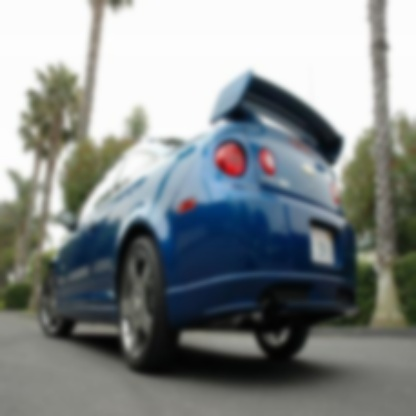Vehicle: (37, 69, 358, 374)
